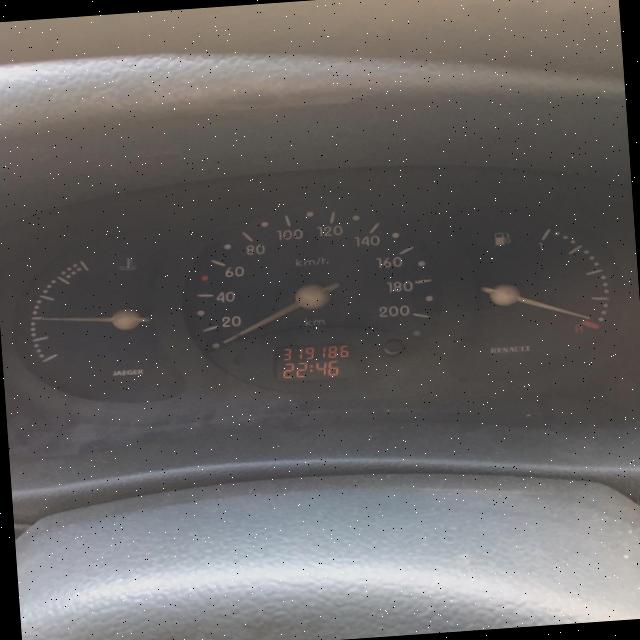odometer: (272, 340, 358, 383)
